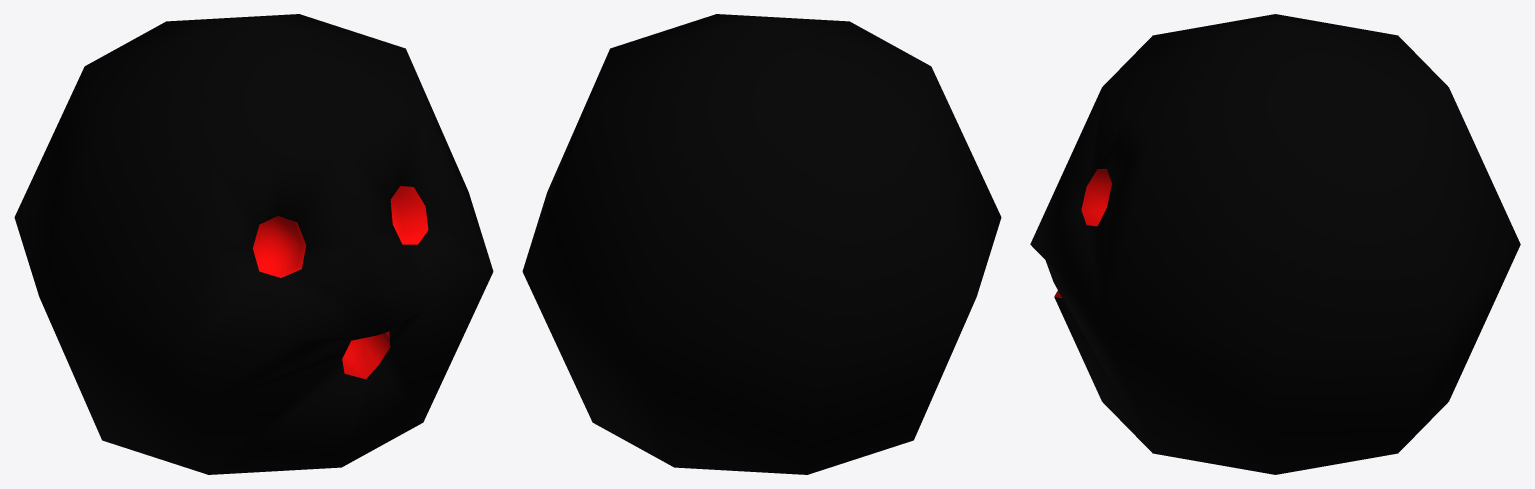
File: BolaExplosiva.fbx
3 renders of one model, left to right at view 1: azimuth 30°, elevation 25°; view 2: azimuth 150°, elevation 25°; view 3: azimuth 270°, elevation 25°, orthographic.
Visible parts, largest first — view 1: Sphere; view 2: Sphere; view 3: Sphere.
Boxes of the visible parts, box(x1,y1,x2,y2) form: Sphere: box(14, 14, 493, 474); Sphere: box(522, 14, 1001, 474); Sphere: box(1030, 14, 1520, 474).
Size of the model in its own units: 70 by 70 by 70.
